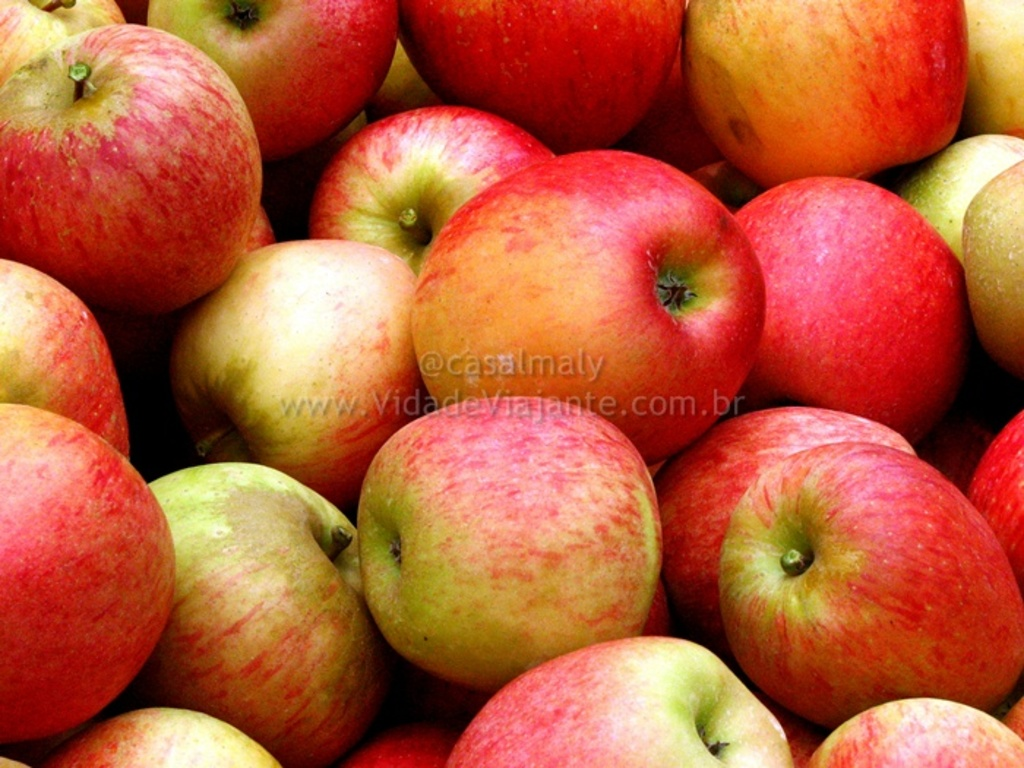Apple: (0, 0, 1022, 766), (8, 11, 256, 317)
